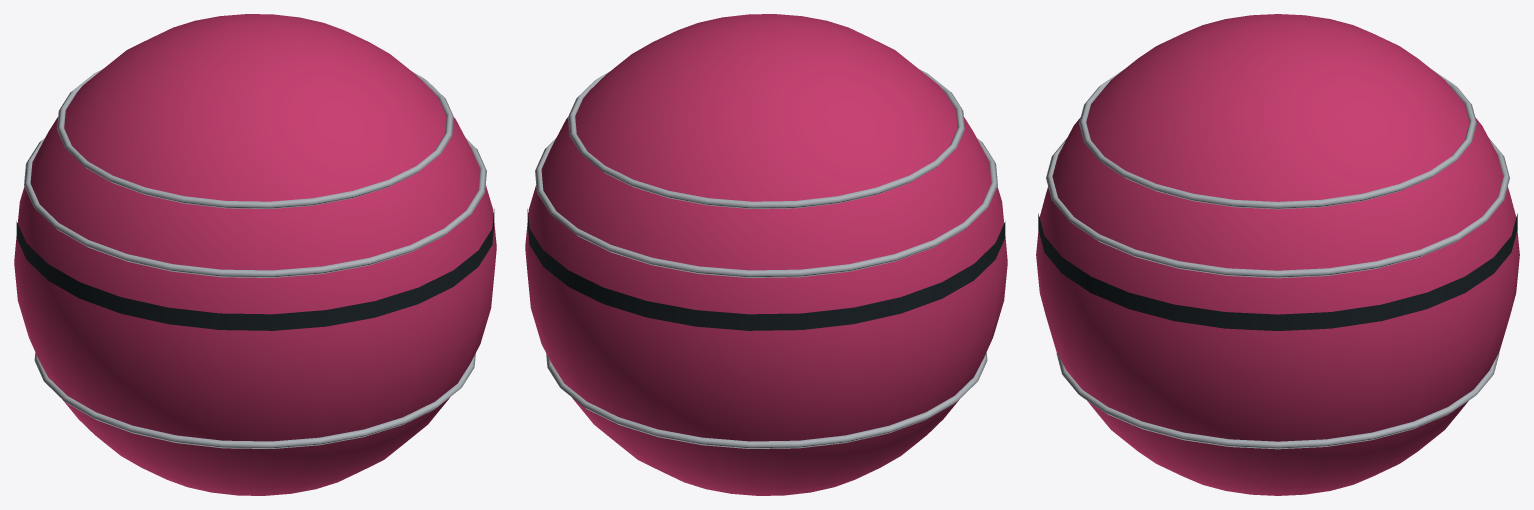
Rendered from PEARL_SPHERE_UP.glb.
3 renders of one model, left to right at view 1: azimuth 30°, elevation 25°; view 2: azimuth 150°, elevation 25°; view 3: azimuth 270°, elevation 25°, orthographic.
Visible parts, largest first — view 1: carPaint_0, steel_2, glass_1; view 2: carPaint_0, steel_2, glass_1; view 3: carPaint_0, steel_2, glass_1.
Part boxes in pixels (bbox=[...]): carPaint_0: bbox=[14, 14, 496, 495]; steel_2: bbox=[24, 69, 486, 448]; glass_1: bbox=[16, 209, 494, 330]; carPaint_0: bbox=[525, 14, 1007, 495]; steel_2: bbox=[535, 69, 997, 448]; glass_1: bbox=[527, 209, 1005, 330]; carPaint_0: bbox=[1036, 14, 1519, 495]; steel_2: bbox=[1046, 69, 1509, 449]; glass_1: bbox=[1038, 213, 1517, 330].
Bounding box in the file's own units: 8 × 8 × 8.
